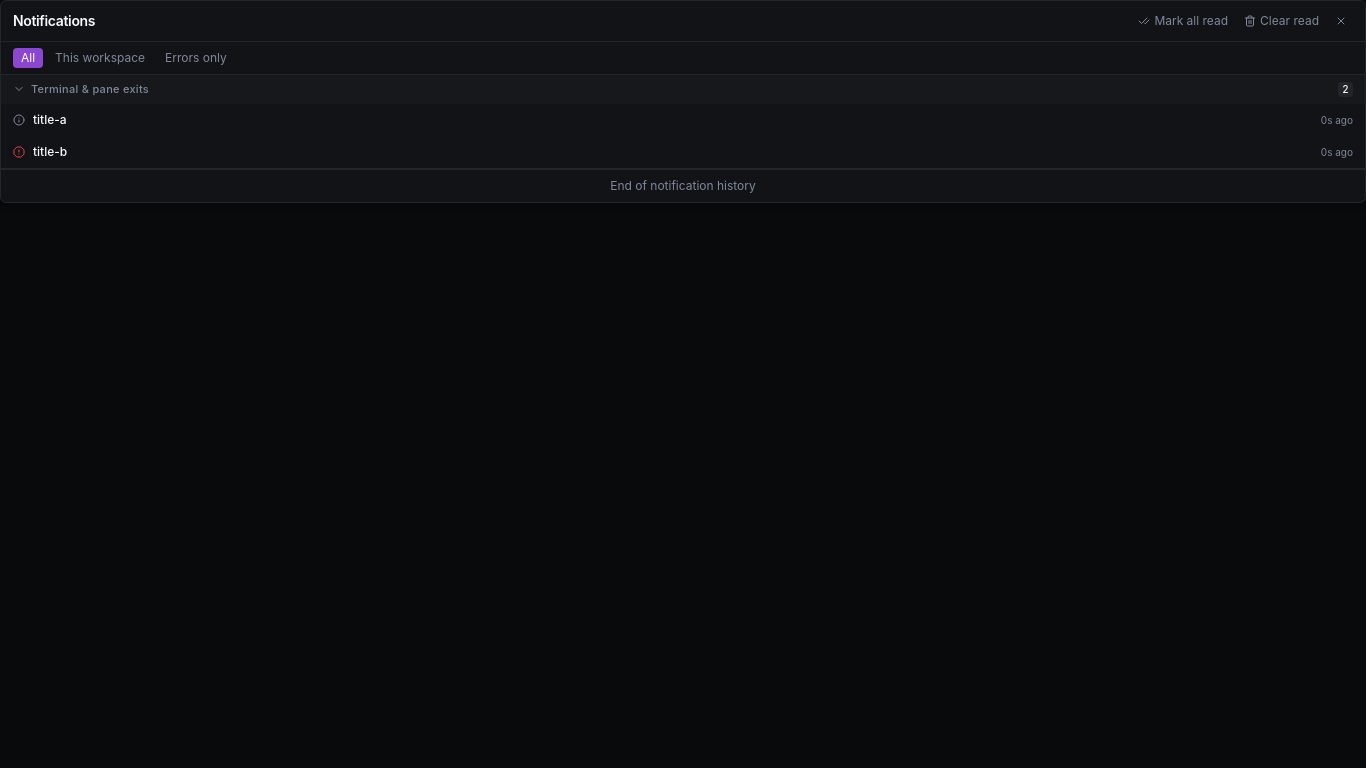
Test: NotificationDropdown › switching filter chip re-renders the list
The width and height of the screenshot is (1366, 768).
Expected: the element with test id "notification-item-a" is shown, [13,112,1353,128]
Expected: the element with test id "notification-item-b" is shown, [13,144,1353,160]
# Switch to Errors only.
Click the button with test id "notification-filter-errors".
click(196, 58)  # box [157,48,235,68]
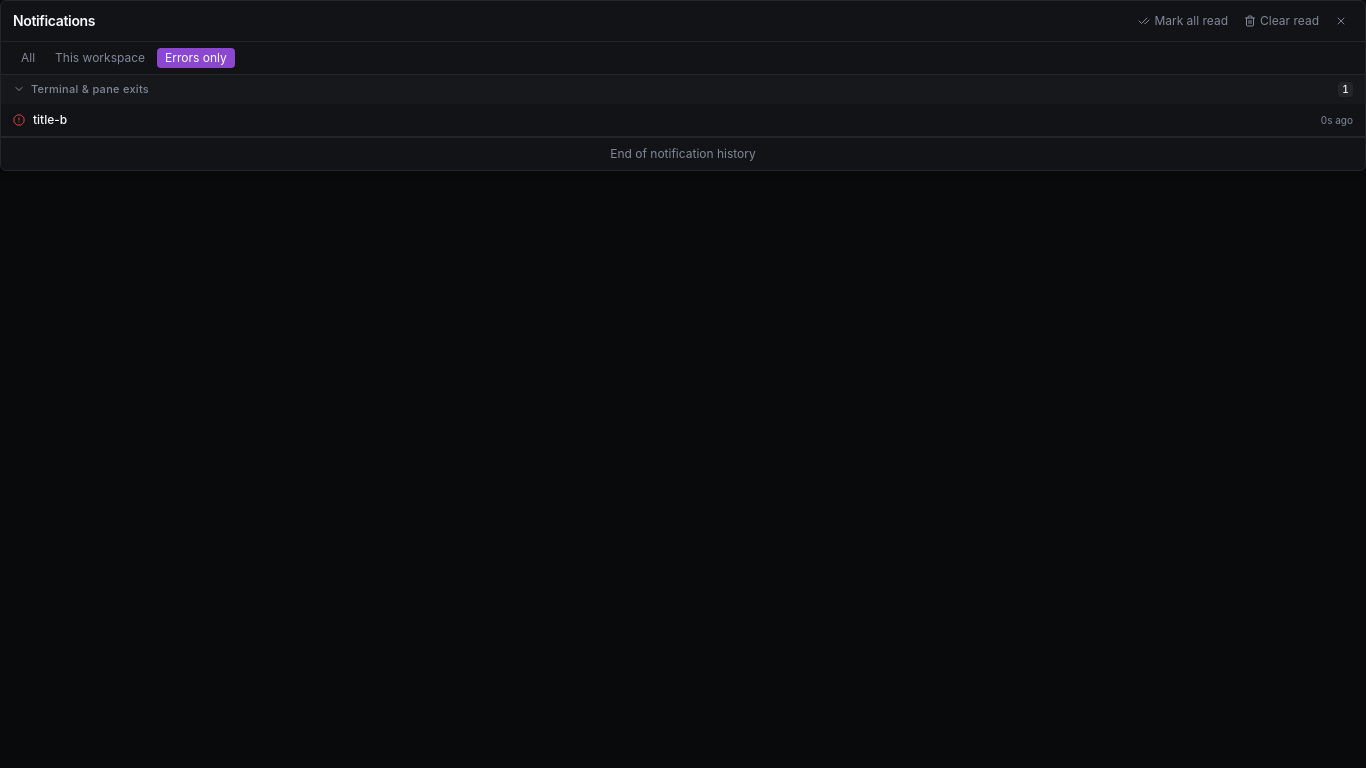
Expected: the element with test id "notification-item-b" is shown, [13,112,1353,128]
Expected: the element with test id "notification-item-a" is gone
